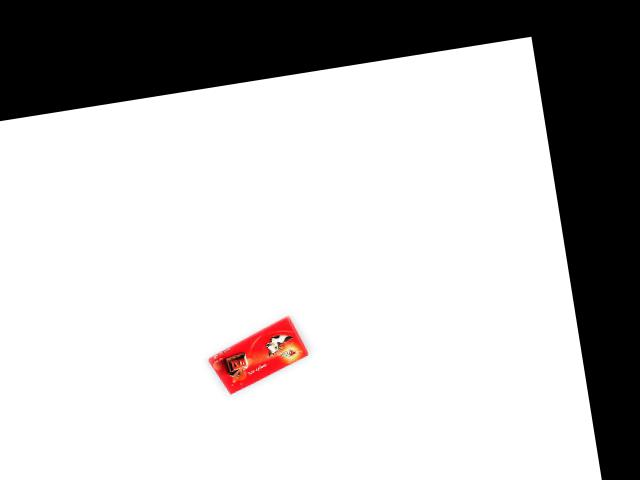chocolate: (202, 314, 310, 398)
